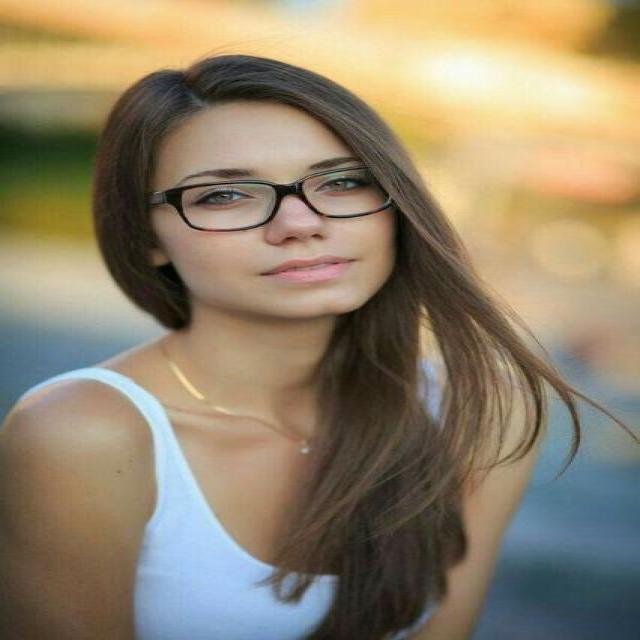glasses: (147, 163, 397, 230)
